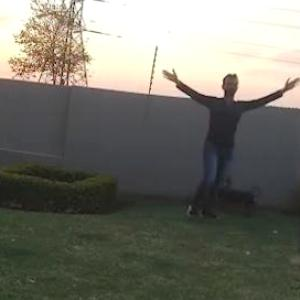takeoff: (161, 72, 285, 210)
